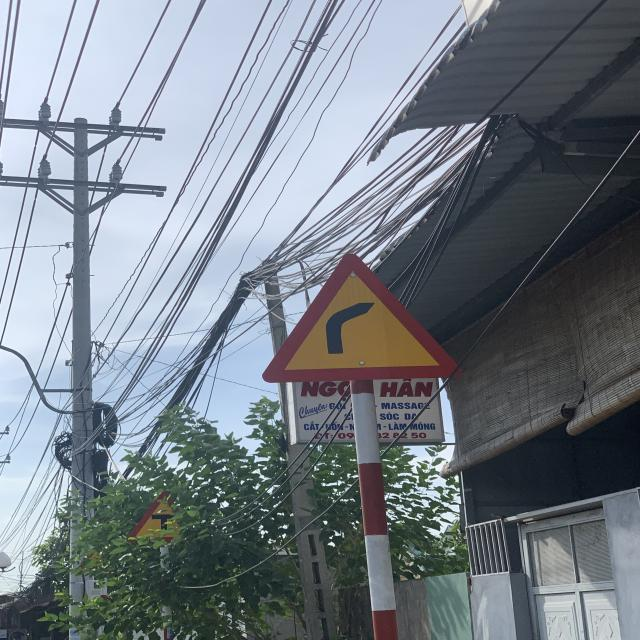Duong_Nguoi_Di_Bo_Cat_Ngang: (260, 248, 462, 382)
